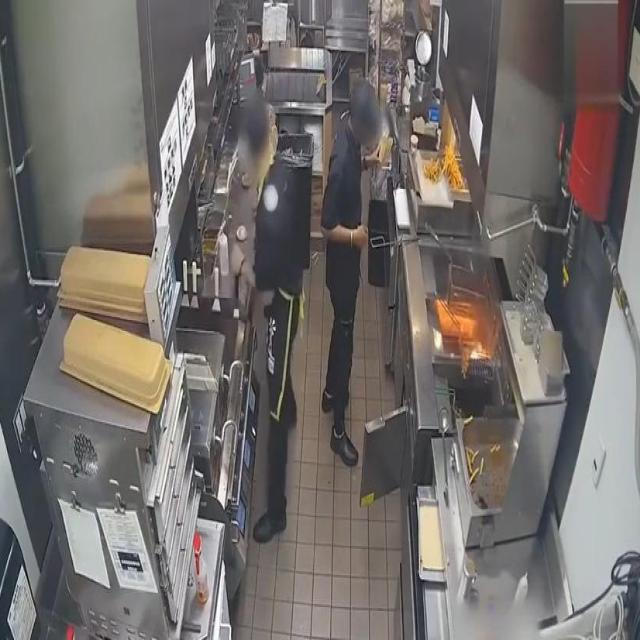smoke: (469, 337, 487, 360)
